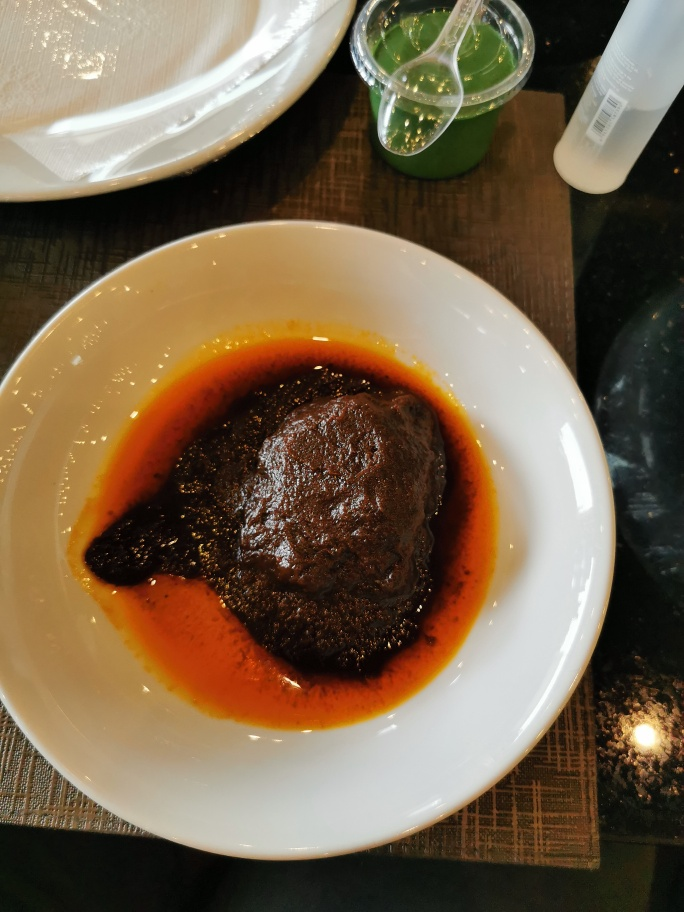rendang: (148, 390, 476, 696)
